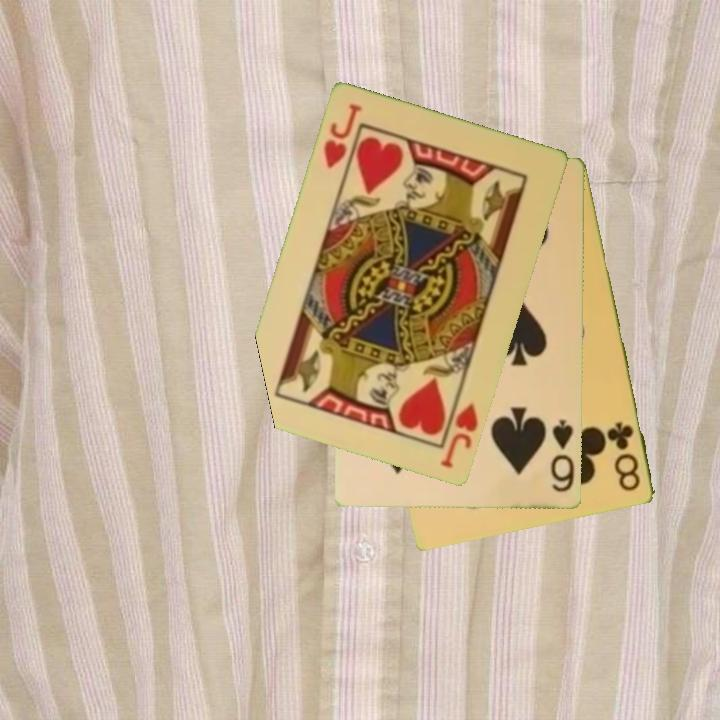6s: (548, 416, 578, 495)
8c: (605, 418, 644, 495)
Jh: (437, 399, 482, 472), (320, 100, 365, 172)
